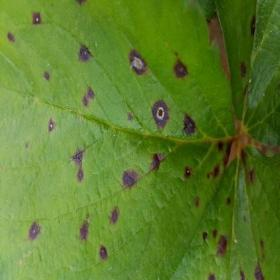Leaf Spot: (170, 146, 279, 279), (215, 0, 279, 148)
